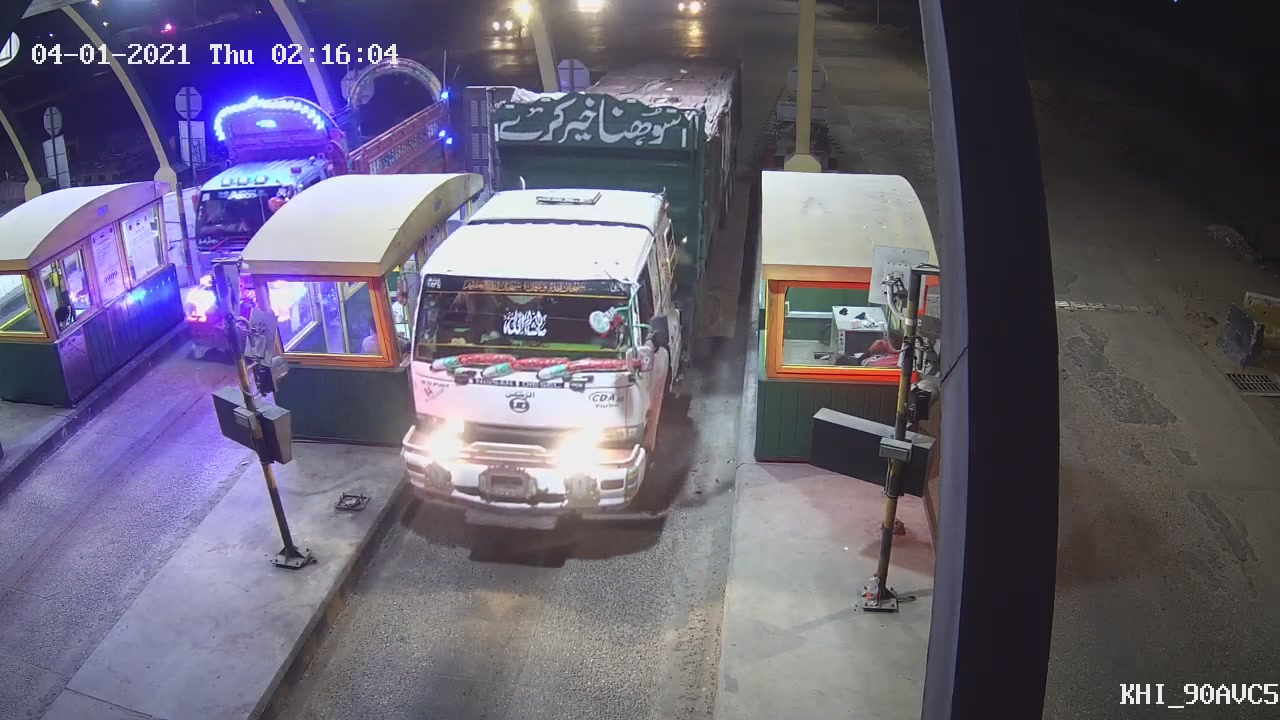F5: (398, 58, 728, 557)
